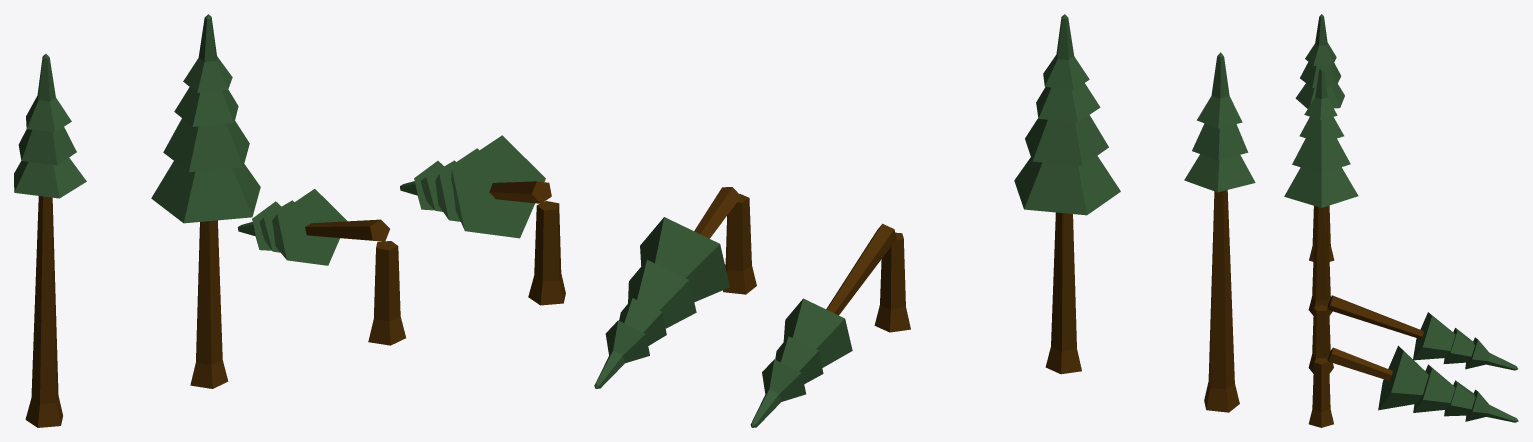
File: Трава 4.fbx
The picture shows the model from 3 angles, left to right: view 1: azimuth 30°, elevation 25°; view 2: azimuth 150°, elevation 25°; view 3: azimuth 270°, elevation 25°; orthographic projection. The views are drawn at different scales.
Visible parts, largest first — view 1: Цилиндр.032, Цилиндр.038, Цилиндр.023, Цилиндр.033; view 2: Цилиндр.032, Цилиндр.038, Цилиндр.033, Цилиндр.023; view 3: Цилиндр.032, Цилиндр.038, Цилиндр.033, Цилиндр.023.
Boxes of the visible parts, x1,y1,x2,y2 form: Цилиндр.032: (151,14,260,388); Цилиндр.038: (400,135,565,305); Цилиндр.023: (14,54,86,427); Цилиндр.033: (237,189,405,345); Цилиндр.032: (1014,14,1120,374); Цилиндр.038: (594,187,756,388); Цилиндр.033: (750,223,910,427); Цилиндр.023: (1184,52,1255,412); Цилиндр.032: (1284,67,1358,315); Цилиндр.038: (1308,345,1518,427); Цилиндр.033: (1308,295,1518,373); Цилиндр.023: (1295,14,1344,261).
Size of the model in its own units: 2622 by 1573 by 1363.
